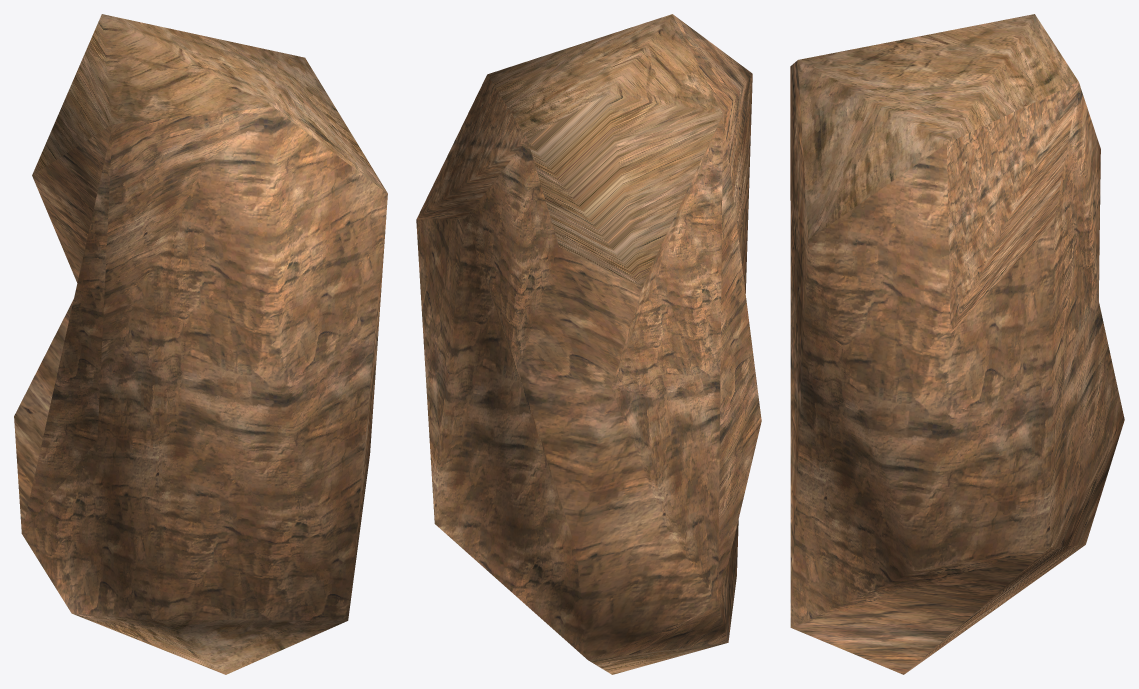
File: rock_tatt_bensmesa_boulder_a3_l3.fbx
3 views of the same model, side by side, from view 1: azimuth 30°, elevation 25°; view 2: azimuth 150°, elevation 25°; view 3: azimuth 270°, elevation 25° (orthographic). The views are drawn at different scales.
Parts seen in each view (by area): view 1: mesh_node; view 2: mesh_node; view 3: mesh_node.
Boxes of the visible parts, <box> form: mesh_node: <box>14,14,387,674</box>; mesh_node: <box>416,14,761,674</box>; mesh_node: <box>790,14,1124,674</box>.
Bounding box in the file's own units: 2.32 × 4.32 × 2.07.
